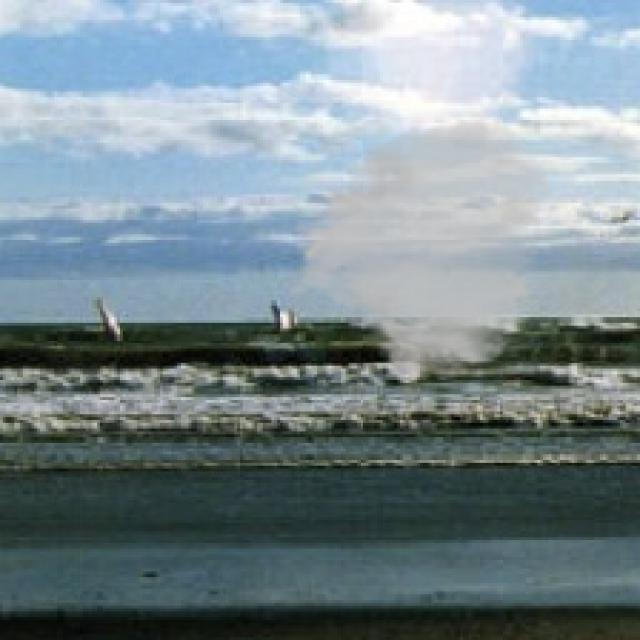Smoke: (282, 114, 558, 386)
